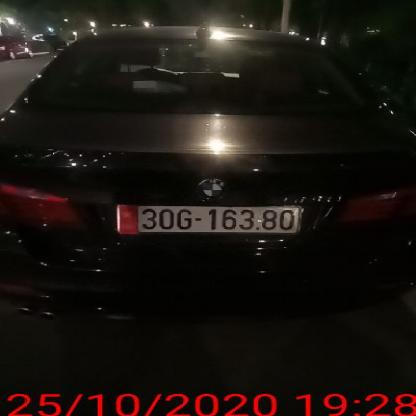biensoxe: (116, 200, 307, 238)
